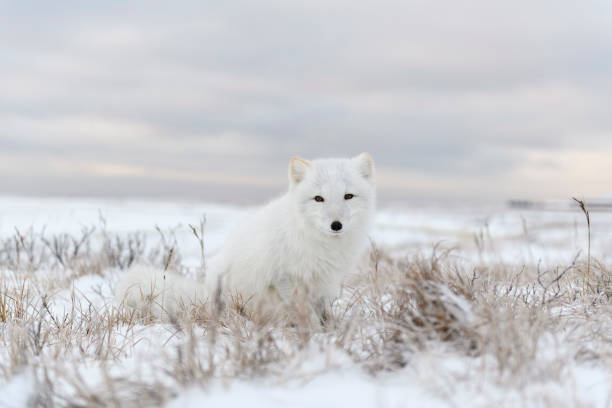arcticfox: (306, 178, 379, 266)
